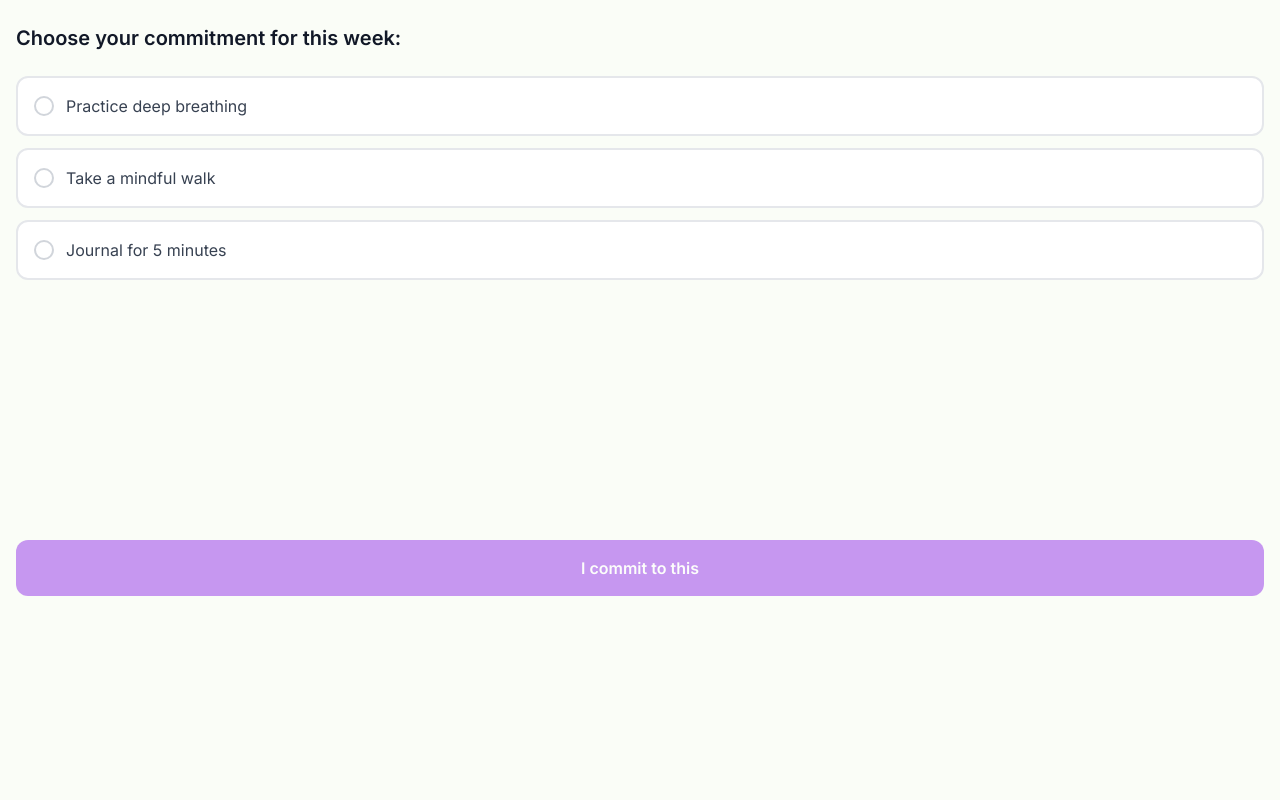
Scenario: MicroCommitment › confirmation flow › shows continue button in confirmation view
Select and commit
Click the button "Practice deep breathing": click(157, 106) [16,76,1264,136]
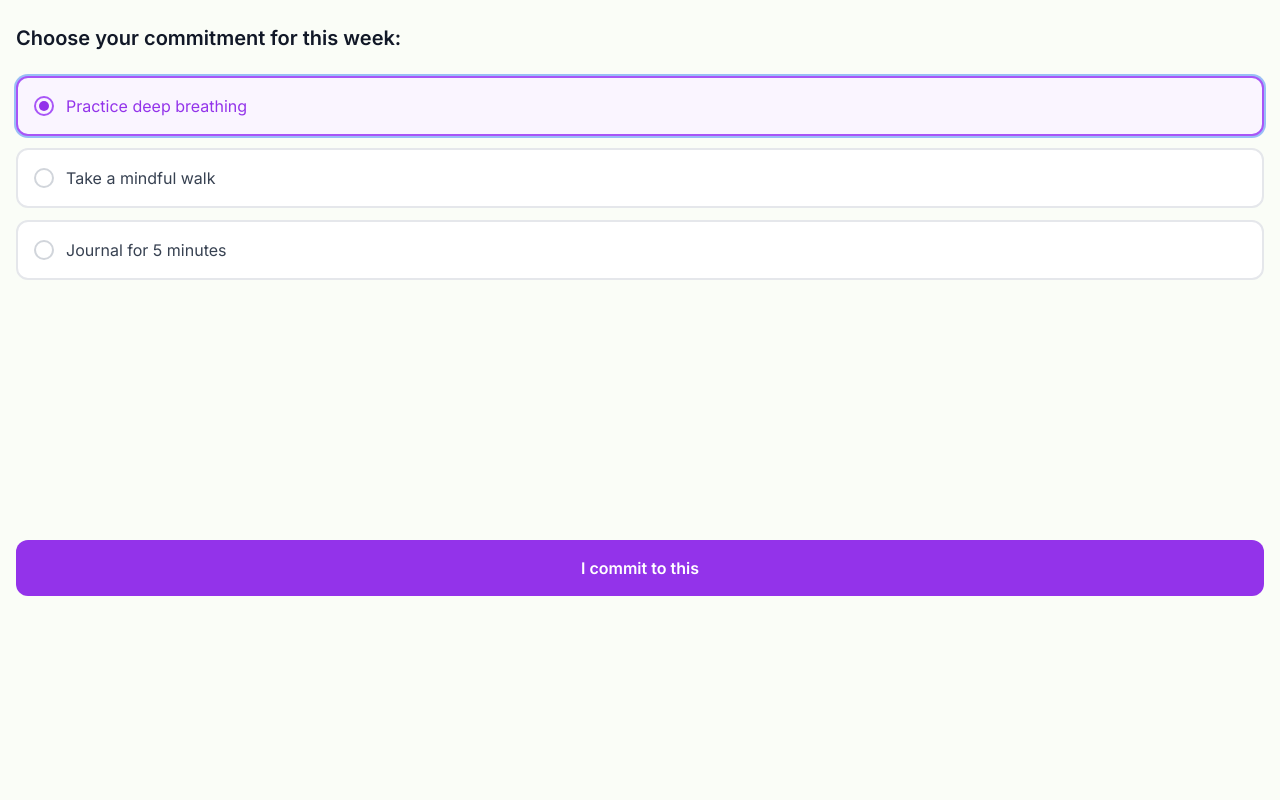
Click the button "I commit to this": click(640, 568) [16,540,1264,596]
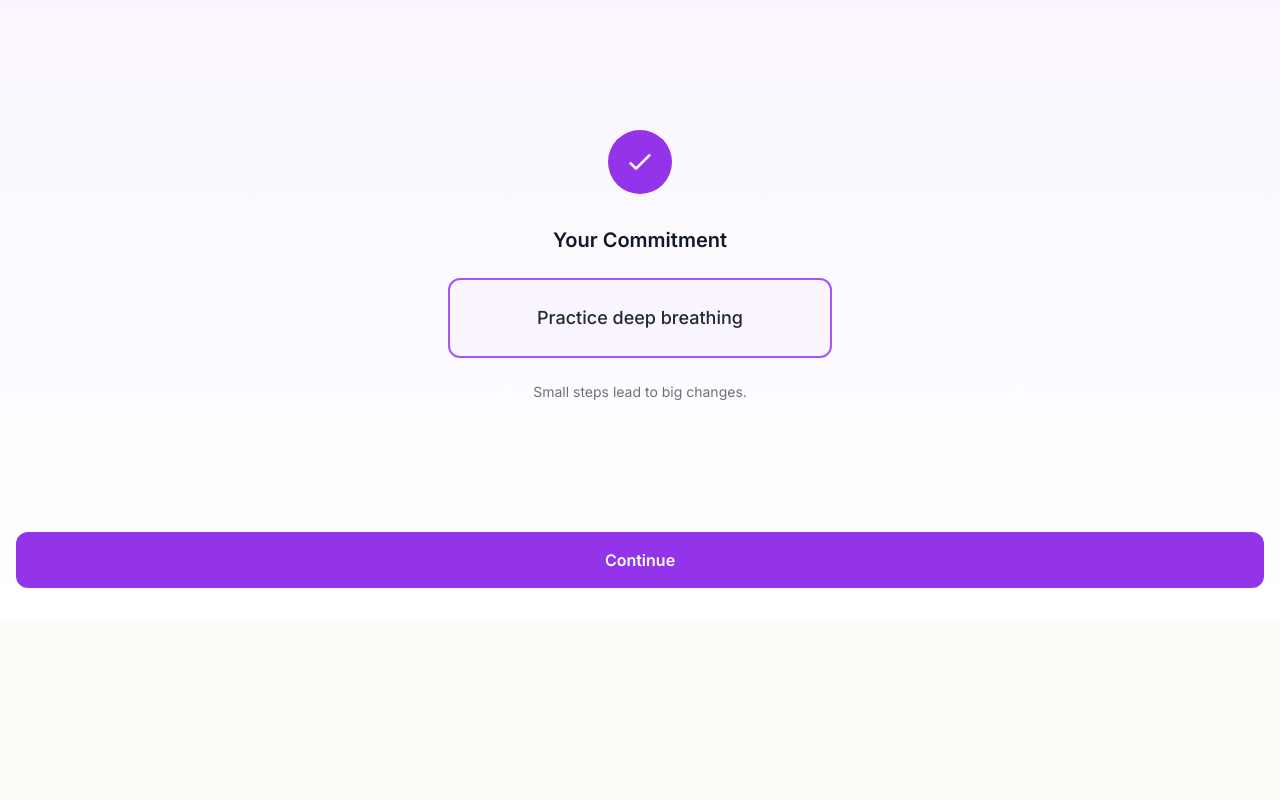
expect the button "Continue" is shown: met, box [16,532,1264,588]
